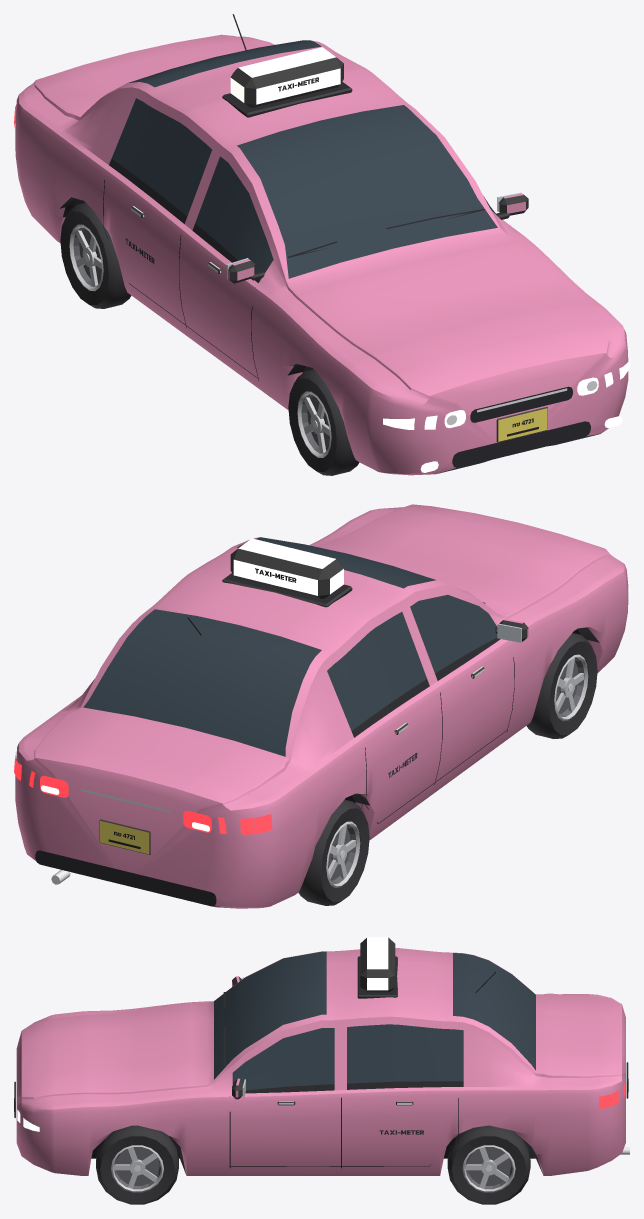
Rendered from SM_Car_Taxi_Pink.fbx.
The picture shows the model from 3 angles, top to bottom: view 1: azimuth 30°, elevation 25°; view 2: azimuth 150°, elevation 25°; view 3: azimuth 270°, elevation 25°; orthographic projection. The views are drawn at different scales.
Parts seen in each view (by area): view 1: Body.004, Wheel_RR.002, Wheel_FR; view 2: Body.004, Wheel_RR.002, Wheel_FR; view 3: Body.004, Wheel_RL.002, Wheel_FL.
Part boxes in pixels (x1=…): Body.004: x1=14, y1=14, x2=629, y2=475; Wheel_RR.002: x1=60, y1=202, x2=131, y2=308; Wheel_FR: x1=288, y1=369, x2=359, y2=475; Body.004: x1=14, y1=504, x2=629, y2=908; Wheel_RR.002: x1=298, y1=799, x2=369, y2=905; Wheel_FR: x1=526, y1=632, x2=597, y2=738; Body.004: x1=14, y1=937, x2=629, y2=1175; Wheel_RL.002: x1=447, y1=1125, x2=530, y2=1204; Wheel_FL: x1=96, y1=1125, x2=178, y2=1204.
Size of what is drawn, in the model's own units: 1.99 by 1.68 by 4.59.
